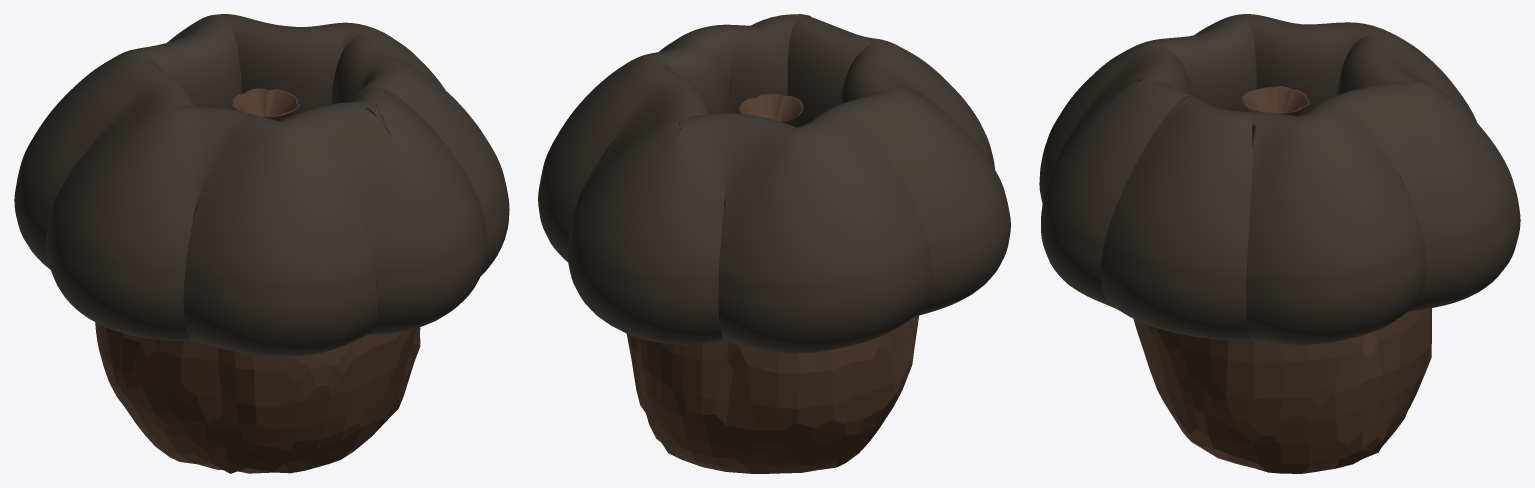
The model's file is pouch closed.fbx.
3 renders of one model, left to right at view 1: azimuth 30°, elevation 25°; view 2: azimuth 150°, elevation 25°; view 3: azimuth 270°, elevation 25°, orthographic. The views are drawn at different scales.
Parts seen in each view (by area): view 1: NurbsCircle, Sphere; view 2: NurbsCircle, Sphere; view 3: NurbsCircle, Sphere.
Part boxes in pixels (x1,y1,x2,y2): NurbsCircle: (14, 14, 509, 356); Sphere: (95, 88, 420, 473); NurbsCircle: (538, 14, 1010, 353); Sphere: (626, 93, 918, 473); NurbsCircle: (1039, 14, 1520, 344); Sphere: (1133, 86, 1431, 473).
Size of the model in its own units: 586 by 503 by 587.
